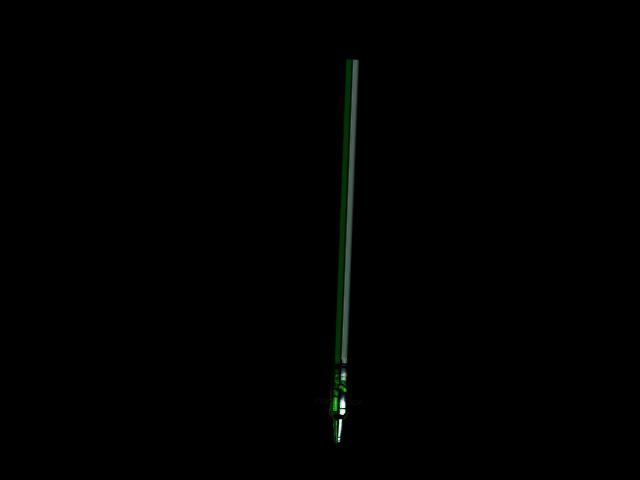beer: (328, 373, 347, 442)
